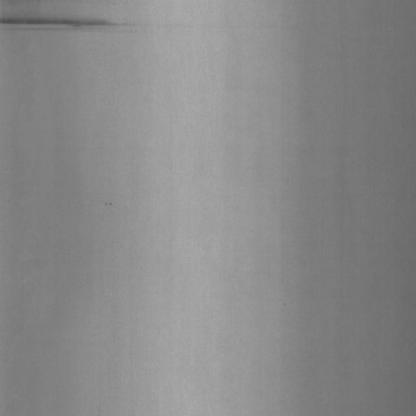crease: (0, 6, 140, 52)
